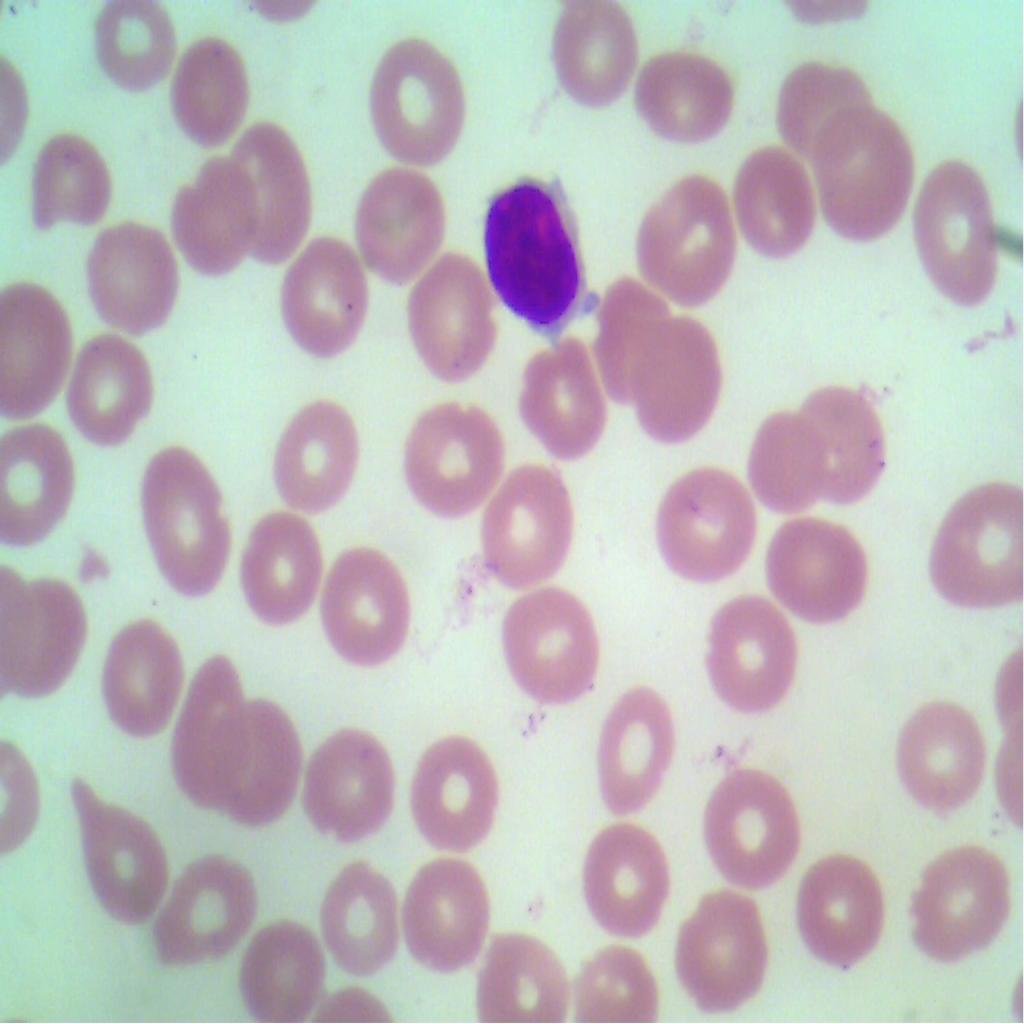Eritrosit: (810, 100, 918, 248), (131, 444, 231, 602), (661, 884, 776, 1021), (631, 168, 741, 310), (364, 20, 464, 172), (704, 752, 806, 900), (558, 810, 674, 940), (75, 779, 175, 928), (908, 155, 1006, 307), (318, 538, 420, 684), (651, 464, 766, 592), (906, 835, 1018, 964), (74, 208, 182, 341), (348, 151, 453, 285), (698, 588, 803, 718), (622, 44, 738, 161), (298, 719, 404, 847), (764, 506, 870, 632), (155, 850, 262, 974), (588, 684, 682, 824), (88, 602, 184, 737), (406, 396, 508, 522), (930, 478, 1024, 614), (796, 378, 895, 506), (164, 648, 244, 806), (792, 851, 886, 984), (890, 692, 990, 817), (402, 728, 506, 847), (210, 701, 304, 831), (501, 584, 601, 705), (63, 328, 156, 456), (222, 918, 335, 1023), (404, 851, 493, 984), (315, 842, 398, 984), (269, 239, 368, 357), (21, 117, 115, 241), (226, 125, 315, 255), (636, 325, 728, 450), (474, 467, 575, 580), (0, 574, 86, 704), (164, 31, 256, 150), (548, 0, 641, 117), (584, 268, 669, 394), (770, 58, 878, 156), (522, 338, 608, 461), (270, 408, 364, 520), (471, 917, 569, 1023), (406, 254, 496, 368), (238, 509, 321, 624), (0, 420, 76, 544), (738, 141, 816, 260), (172, 155, 250, 274), (93, 0, 178, 106), (744, 404, 822, 512), (578, 939, 663, 1023)
Limfoblast: (476, 174, 590, 340)
